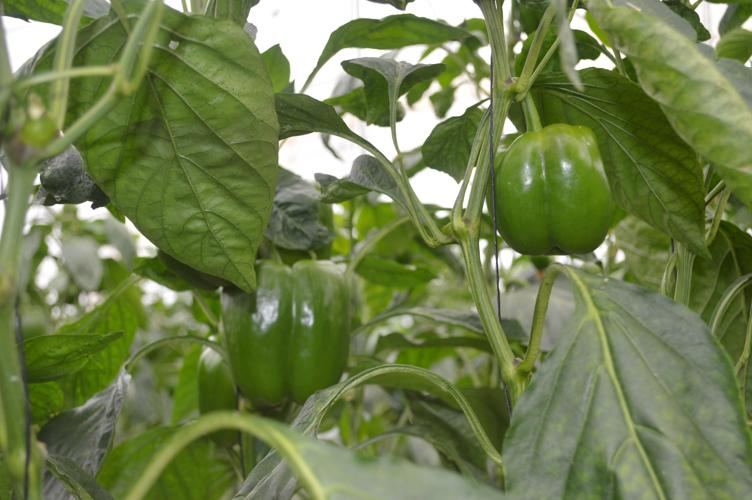BellPepper: (213, 260, 347, 394), (486, 125, 612, 251)
